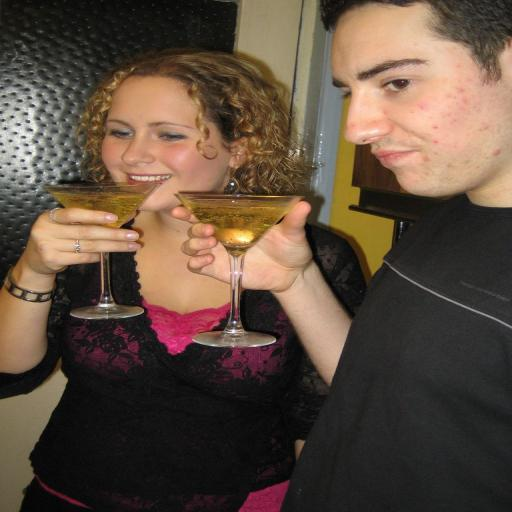Person: (65, 30, 305, 512), (302, 2, 447, 512)
no_gloves: (199, 202, 316, 284), (80, 200, 168, 268)
no_goggle: (133, 122, 220, 154), (312, 63, 399, 95)
no_helmet: (300, 0, 448, 82), (126, 42, 274, 124)
none: (106, 222, 302, 488), (310, 197, 448, 491)
